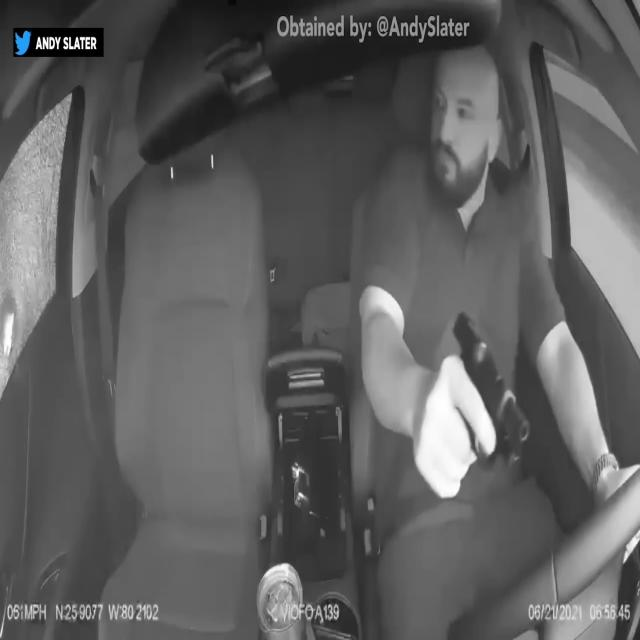senjata_api: (452, 307, 531, 472)
